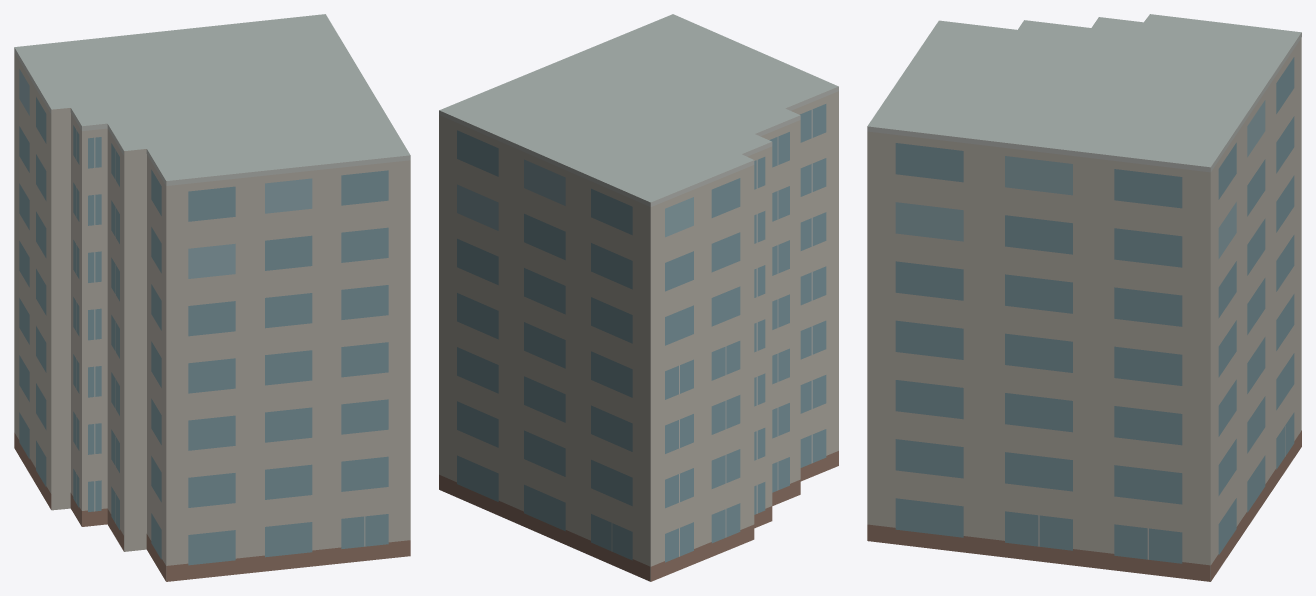
The model's file is survey-upis-32914983.glb.
3 renders of one model, left to right at view 1: azimuth 30°, elevation 25°; view 2: azimuth 150°, elevation 25°; view 3: azimuth 270°, elevation 25°, orthographic. The views are drawn at different scales.
Visible parts, largest first — view 1: survey-upis-32914983.tmp; view 2: survey-upis-32914983.tmp; view 3: survey-upis-32914983.tmp.
Part boxes in pixels (box(x1,y1,x2,y2)): survey-upis-32914983.tmp: box(14, 14, 410, 581); survey-upis-32914983.tmp: box(439, 14, 838, 581); survey-upis-32914983.tmp: box(867, 14, 1301, 581).
Bounding box in the file's own units: 15.71 × 19.8 × 18.81.
